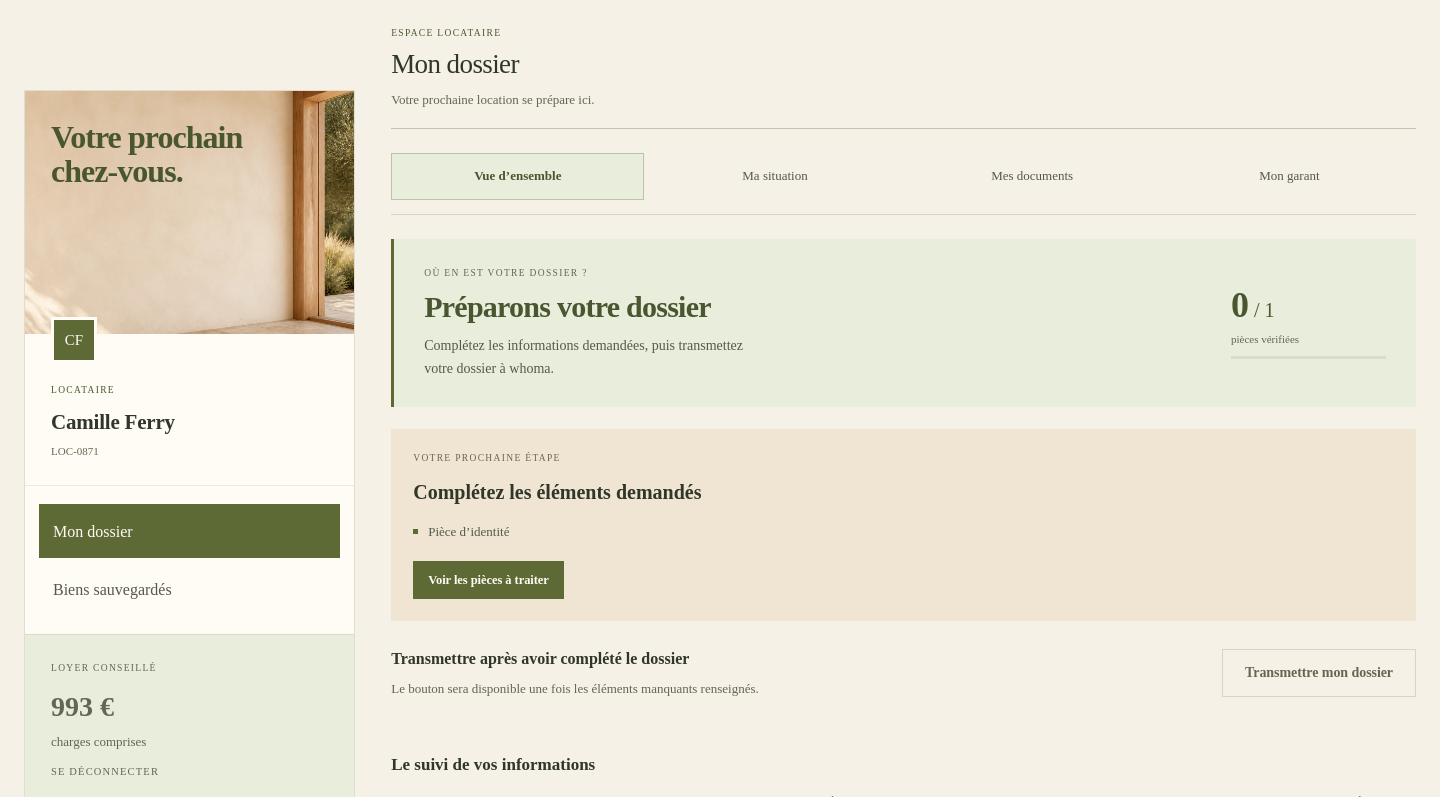
Test: Dossier locataire par rubriques › consulte la situation avant édition et restaure les valeurs si on annule
This screenshot has width=1440, height=797.
Click the button "Ma situation": click(775, 176) [648,153,902,200]
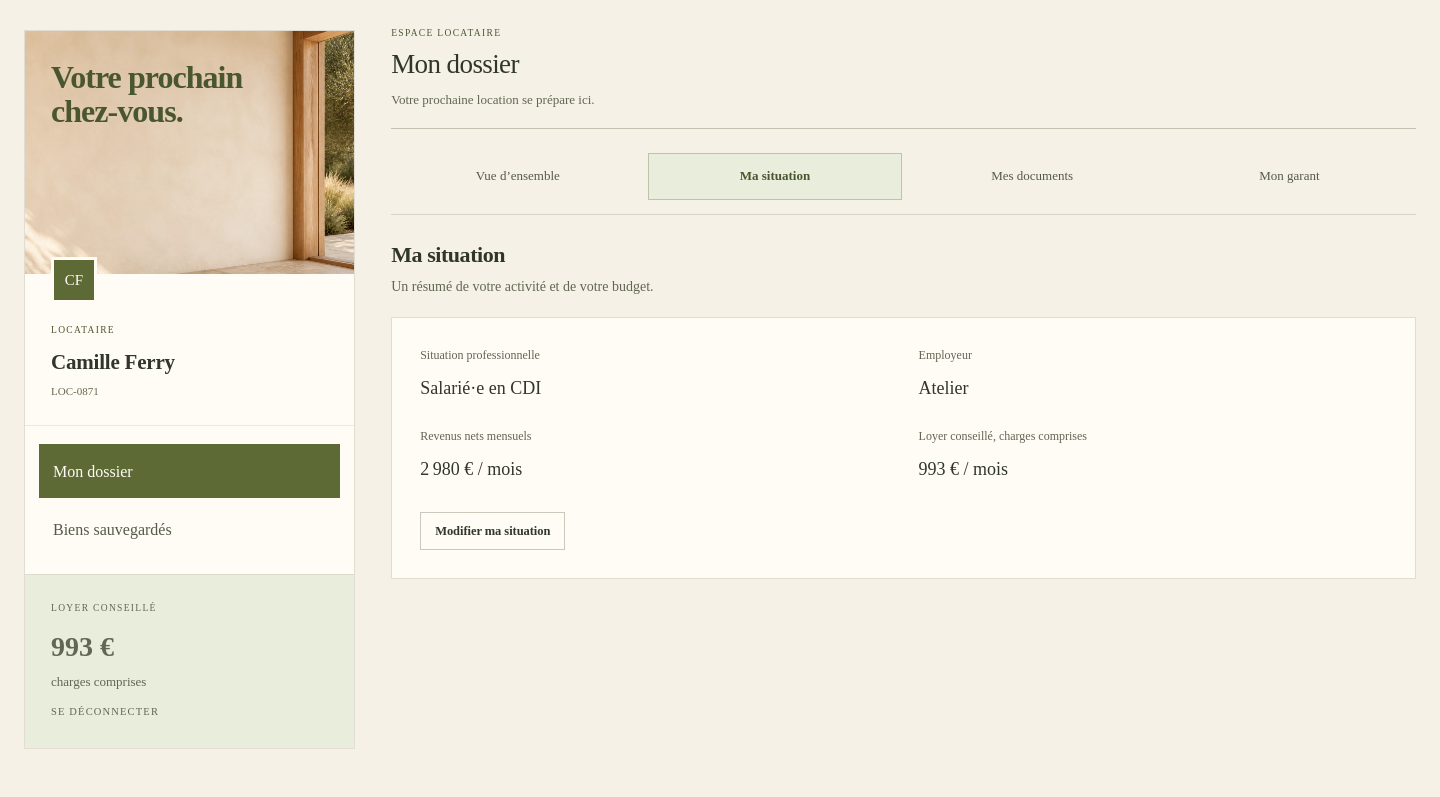
Check: the text "Atelier" is shown, box [919,378,969,398]
Click the button "Modifier ma situation": click(493, 531) [420,512,565,550]
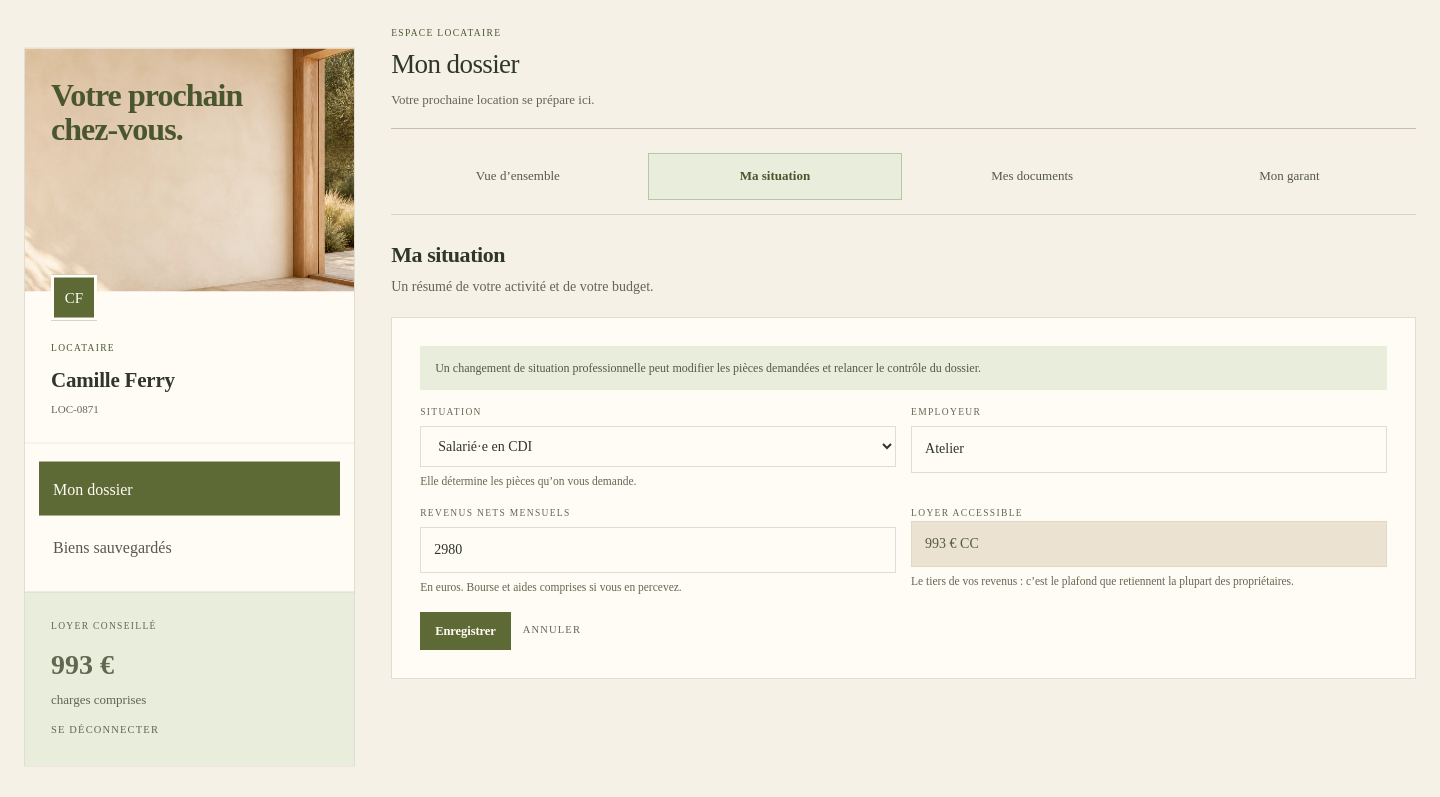
Replace the text in the field labelled "Employeur" with "Saisie abandonnée": (1149, 450) [911,426,1387,473]
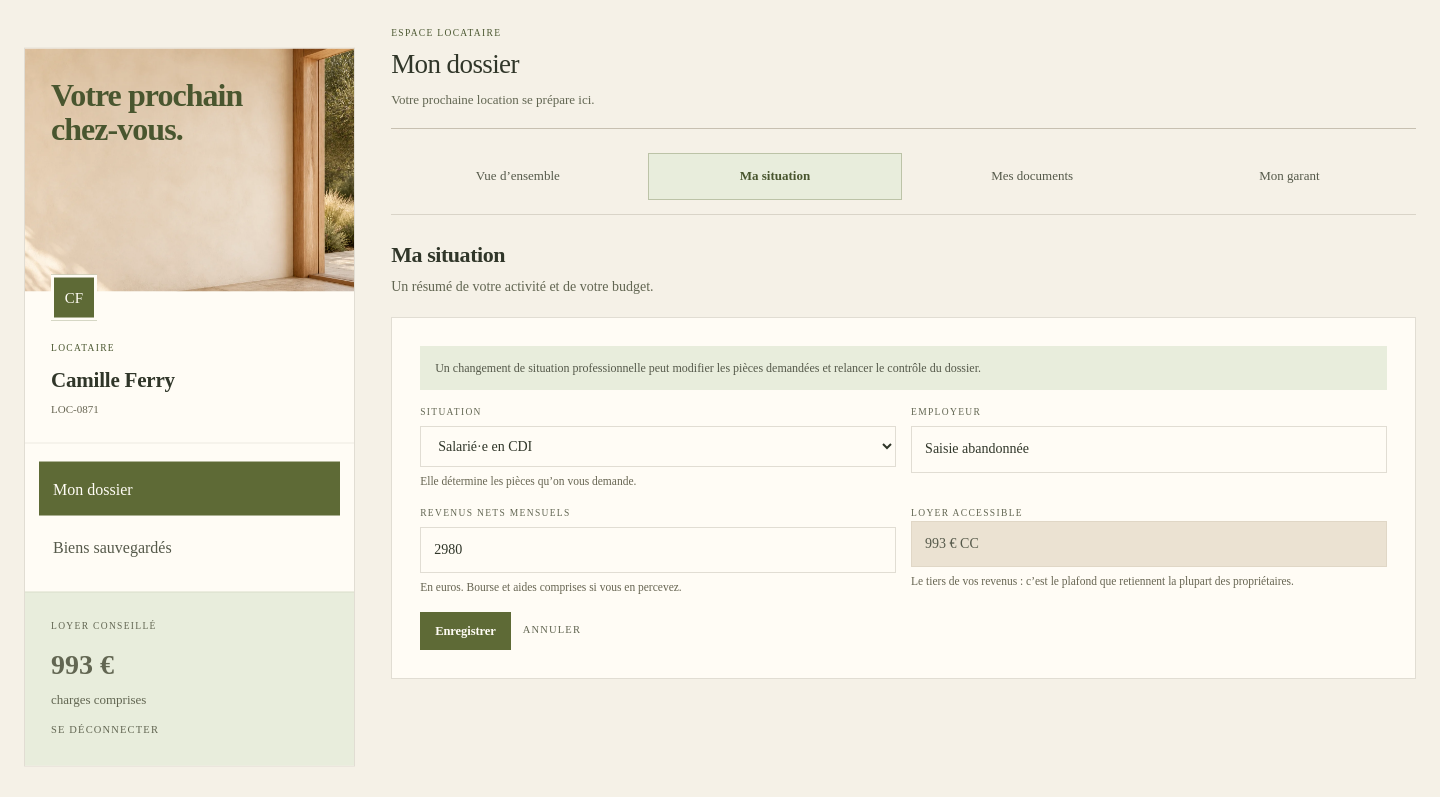
Click the button "Annuler": click(552, 631) [523,622,581,639]
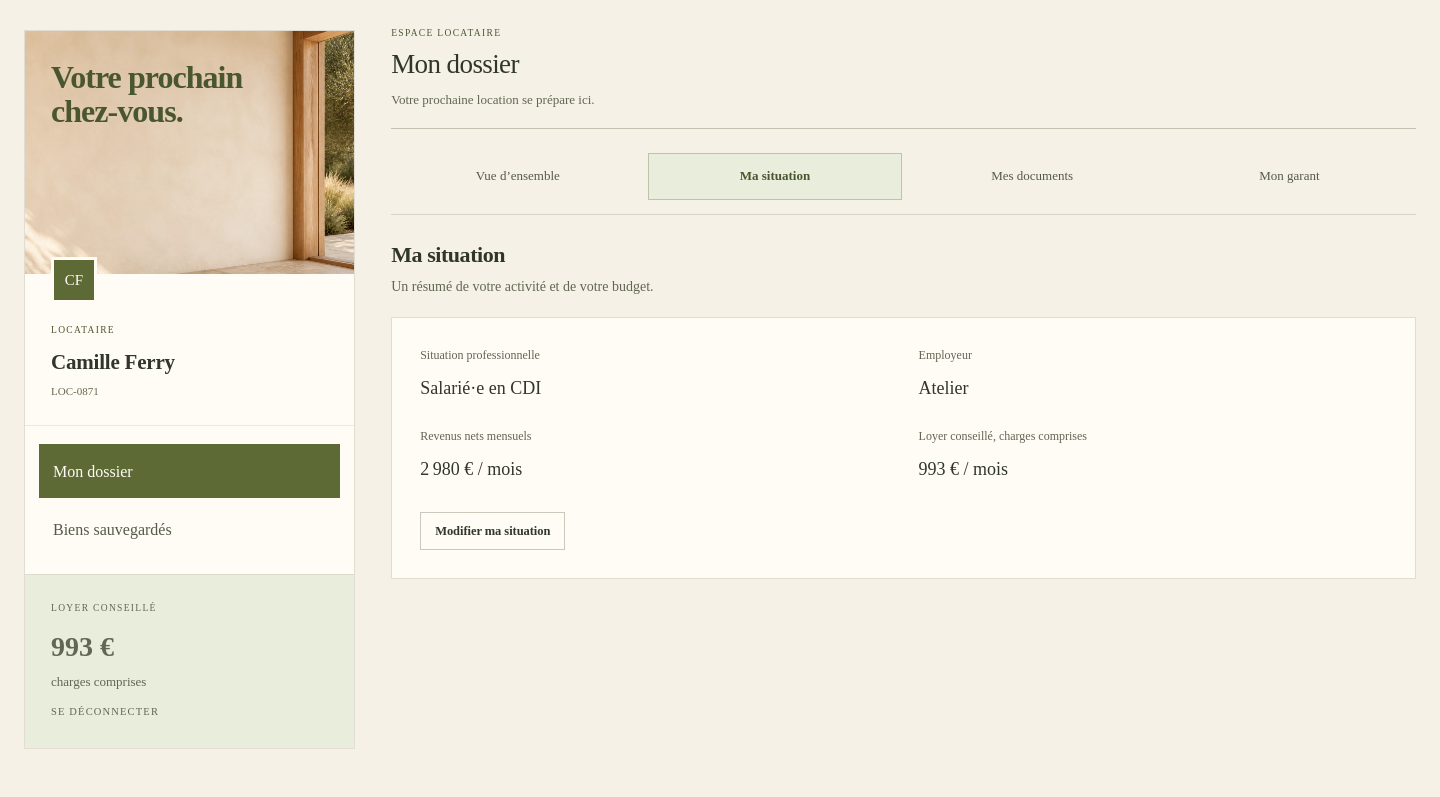
Click the button "Modifier ma situation": click(493, 531) [420,512,565,550]
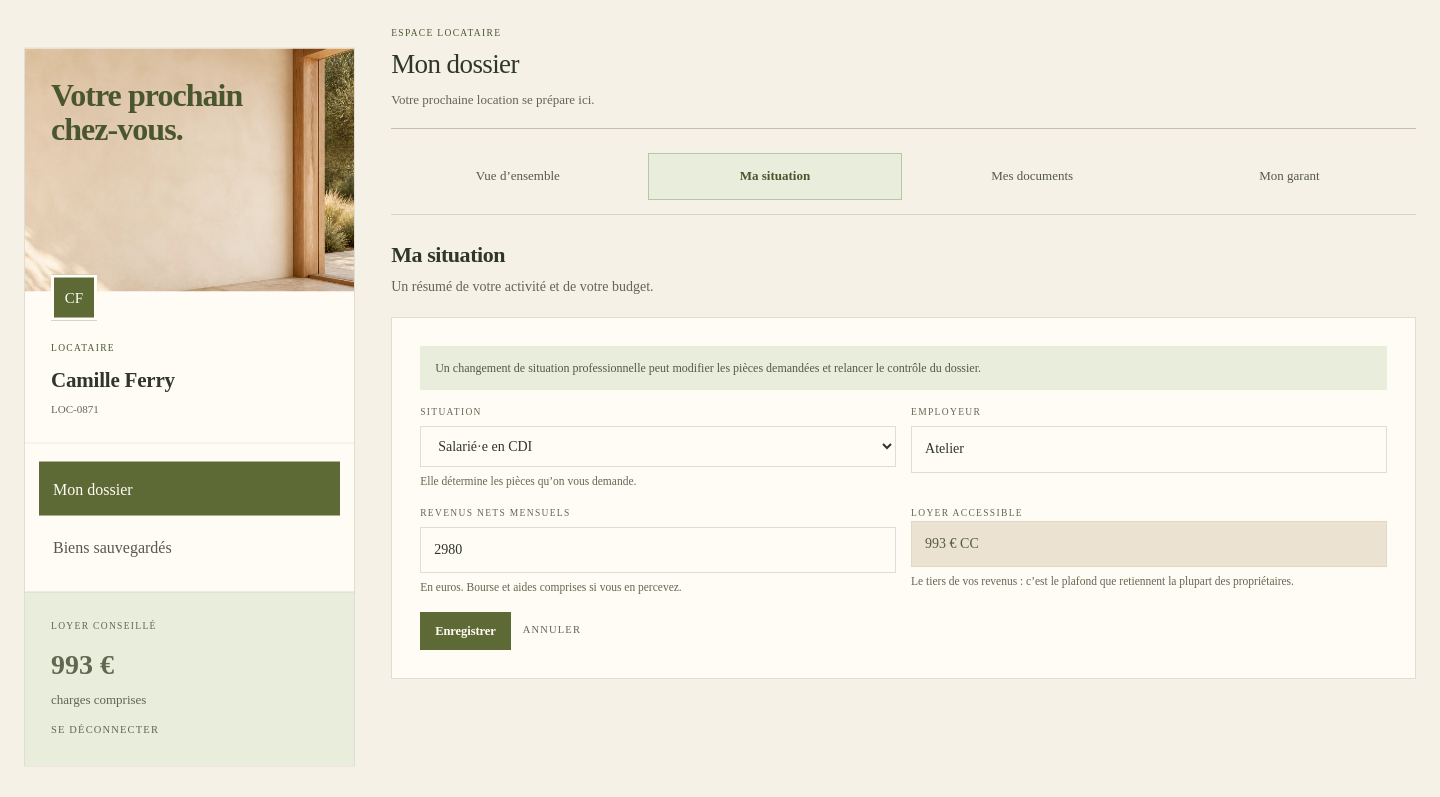
Check: the field labelled "Employeur" holds "Atelier", box [911,426,1387,473]
